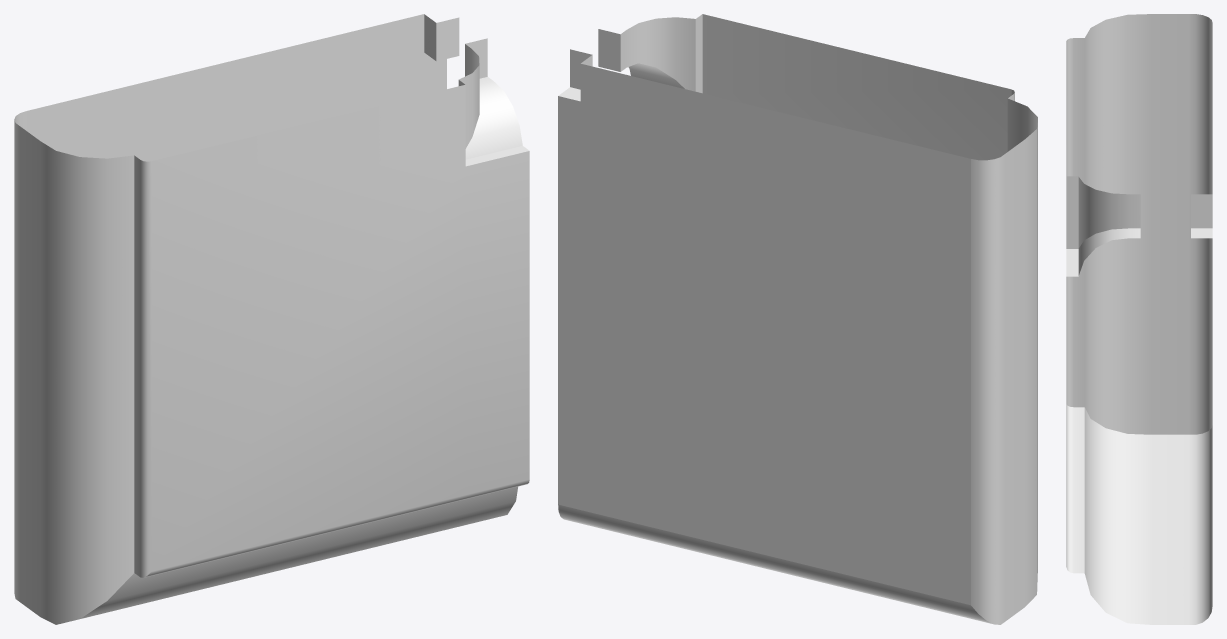
Rendered from original-44.obj.
3 views of the same model, side by side, from view 1: azimuth 30°, elevation 25°; view 2: azimuth 150°, elevation 25°; view 3: azimuth 270°, elevation 25° (orthographic). The views are drawn at different scales.
Parts seen in each view (by area): view 1: DF_31_BL1/DF_31_BL/mesh23/mesh23-geometry#mesh23-geometry; view 2: DF_31_BL1/DF_31_BL/mesh23/mesh23-geometry#mesh23-geometry; view 3: DF_31_BL1/DF_31_BL/mesh23/mesh23-geometry#mesh23-geometry.
Boxes of the visible parts, bbox=[...] form: DF_31_BL1/DF_31_BL/mesh23/mesh23-geometry#mesh23-geometry: bbox=[14, 14, 529, 624]; DF_31_BL1/DF_31_BL/mesh23/mesh23-geometry#mesh23-geometry: bbox=[558, 14, 1037, 624]; DF_31_BL1/DF_31_BL/mesh23/mesh23-geometry#mesh23-geometry: bbox=[1066, 14, 1212, 624].
Bounding box in the file's own units: 0.1087 × 0.1122 × 0.0354.
